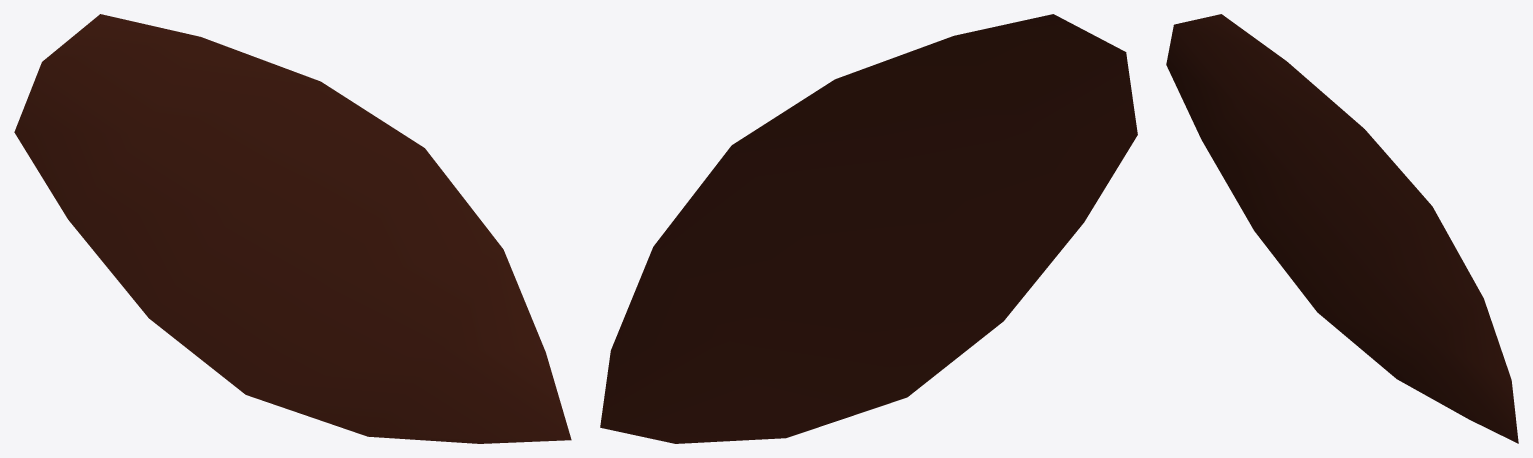
Rendered from rooster_feather_flight_tertiary_027.obj.
The picture shows the model from 3 angles, left to right: view 1: azimuth 30°, elevation 25°; view 2: azimuth 150°, elevation 25°; view 3: azimuth 330°, elevation 25°; orthographic projection. The views are drawn at different scales.
Visible parts, largest first — view 1: feather_flight_tertiary_027; view 2: feather_flight_tertiary_027; view 3: feather_flight_tertiary_027.
Boxes of the visible parts, x1,y1,x2,y2 form: feather_flight_tertiary_027: (14, 14, 571, 443); feather_flight_tertiary_027: (600, 14, 1137, 443); feather_flight_tertiary_027: (1166, 14, 1518, 443).
Size of the model in its own units: 0.0208 by 0.0194 by 0.000781.
